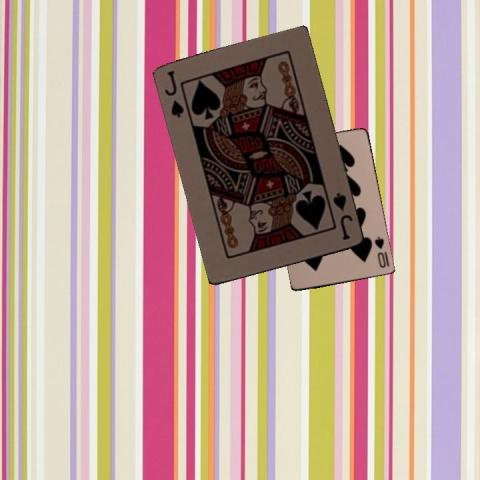10s: (372, 234, 387, 269)
Js: (330, 189, 355, 242), (162, 68, 186, 120)
